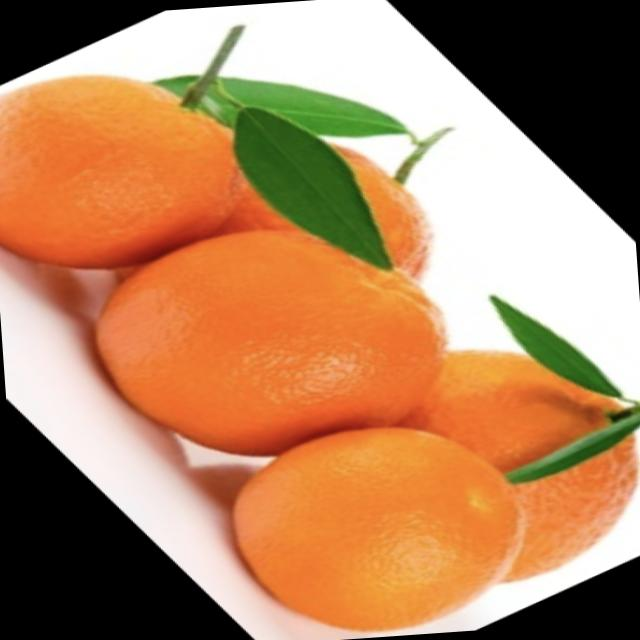orange: (88, 209, 460, 470), (207, 411, 543, 640), (401, 330, 640, 611), (0, 55, 267, 291)
